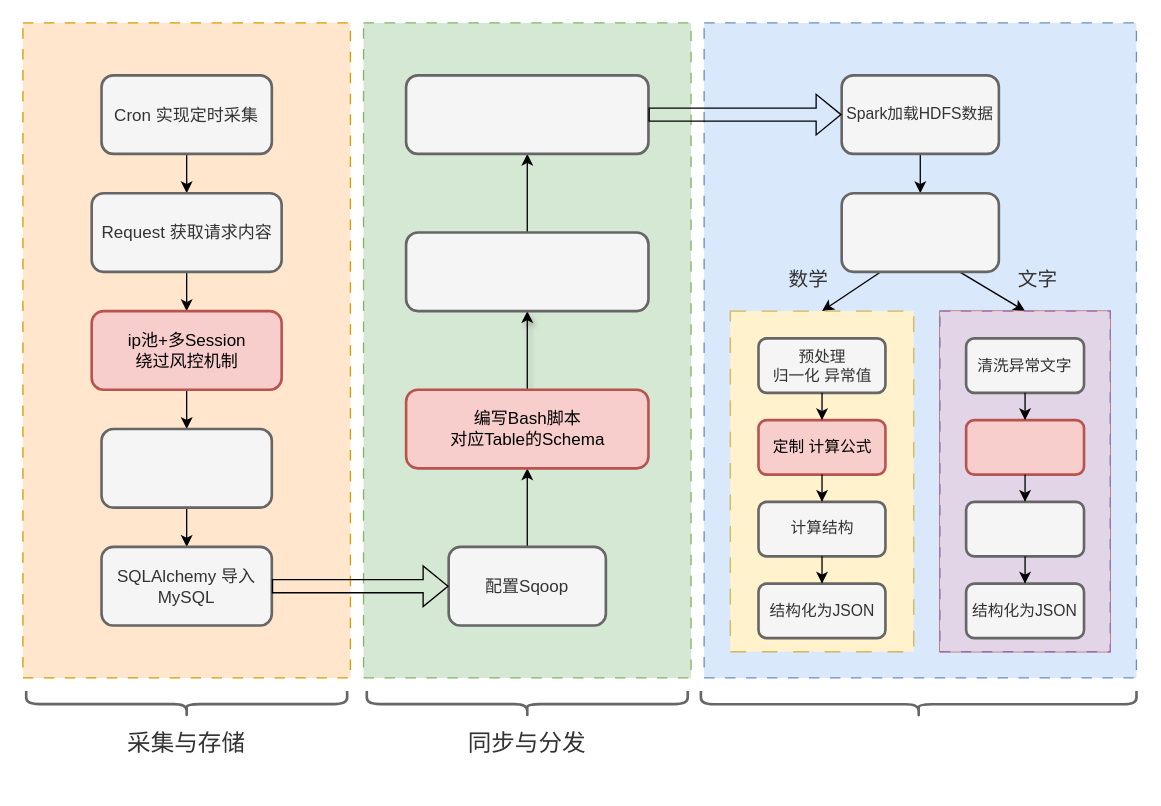
The diagram is 1161 pixels wide and 806 high, and some of its shapes have lost their labels. Here are the shapes that lost their labels. From the top down, the centre of each, then its label:
At [526,114]: "设置为自动化流程".
At [920,231]: "特定模块 定制化分析".
At [526,271]: "导入Hadoop File System".
At [1024,446]: "jieba/ Deepseek".
At [186,467]: "数据-清洗与结构化".
At [1024,528]: "生成词云/ 热点分析".
At [918,703]: "数据分析处理".
